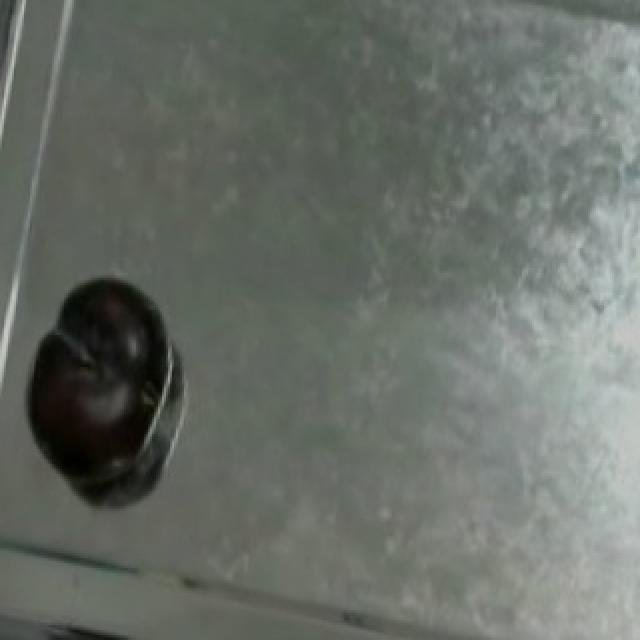Fruit: (16, 337, 166, 501)
